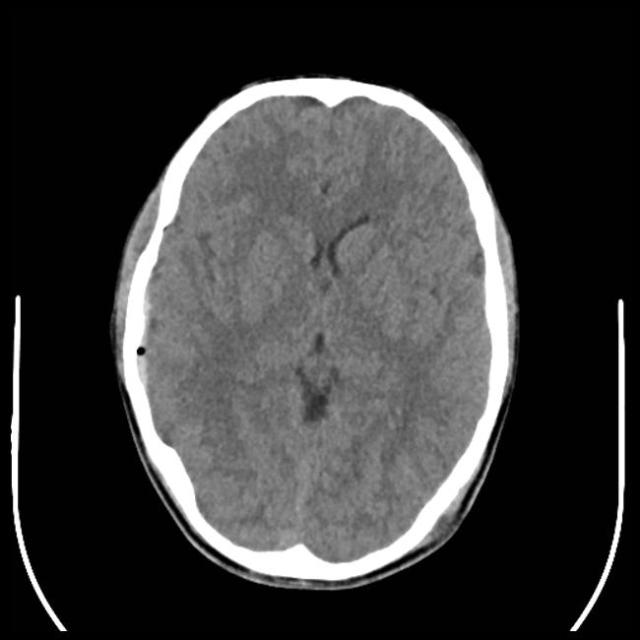lesion: (108, 73, 522, 586)
